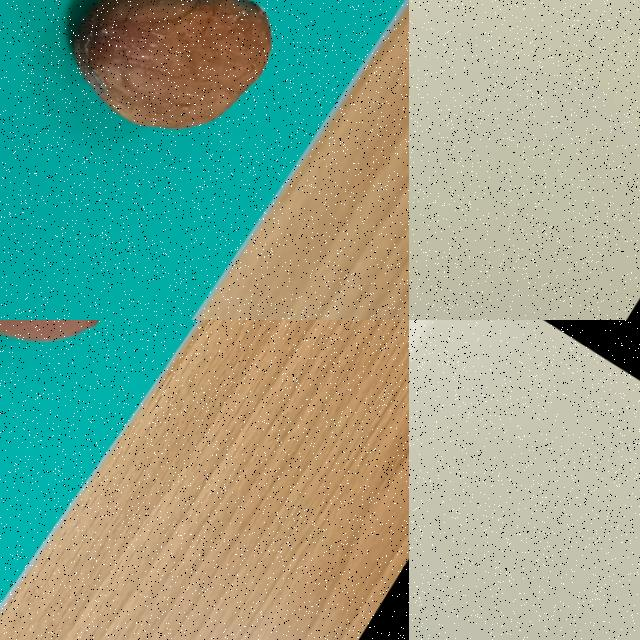Fine_cocoabeans: (0, 0, 356, 246), (0, 320, 203, 479)
